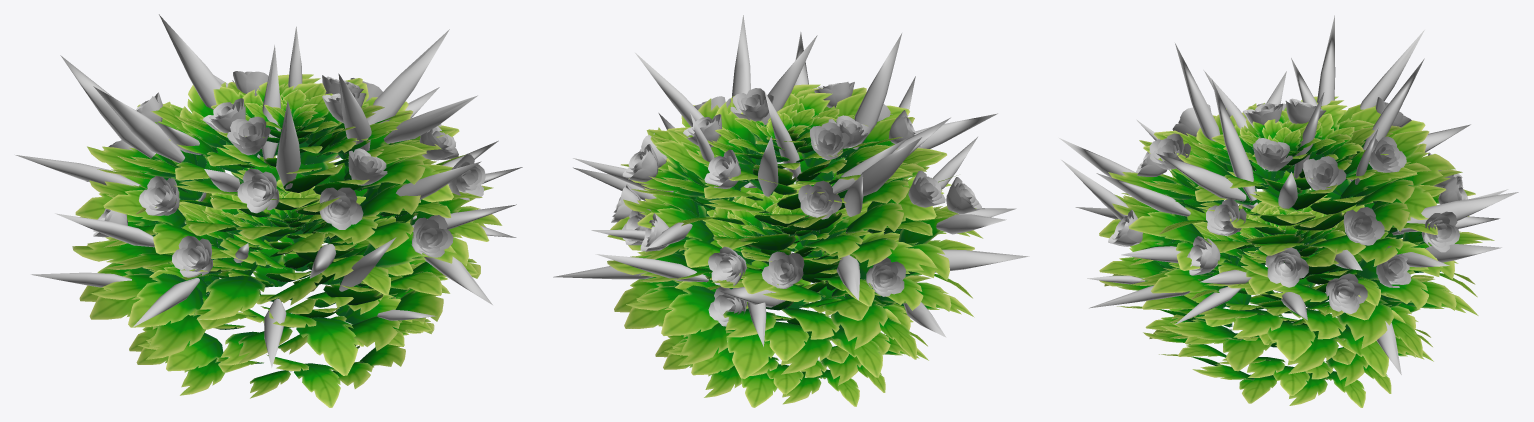
The model's file is BushTrap.fbx.
3 views of the same model, side by side, from view 1: azimuth 30°, elevation 25°; view 2: azimuth 150°, elevation 25°; view 3: azimuth 270°, elevation 25° (orthographic). The views are drawn at different scales.
Visible parts, largest first — view 1: leafs, spikes, flowers; view 2: leafs, spikes, flowers; view 3: leafs, spikes, flowers.
Part boxes in pixels (x1,y1,x2,y2): leafs: (72,74,502,407); spikes: (15,14,522,367); flowers: (93,71,485,277); leafs: (607,84,983,407); spikes: (553,15,1029,346); flowers: (611,82,981,326); leafs: (1099,96,1494,407); spikes: (1059,15,1518,374); flowers: (1108,97,1467,313).
Bounding box in the file's own units: 231 × 152 × 218.
